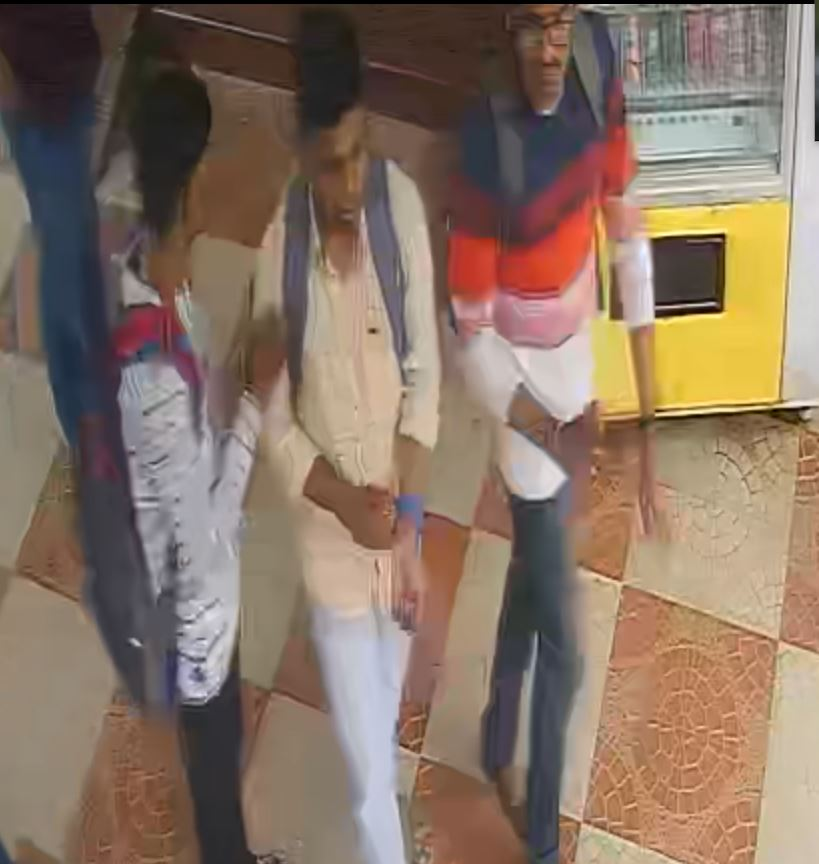intruder: (460, 1, 659, 864), (254, 10, 457, 834), (76, 62, 267, 864)
